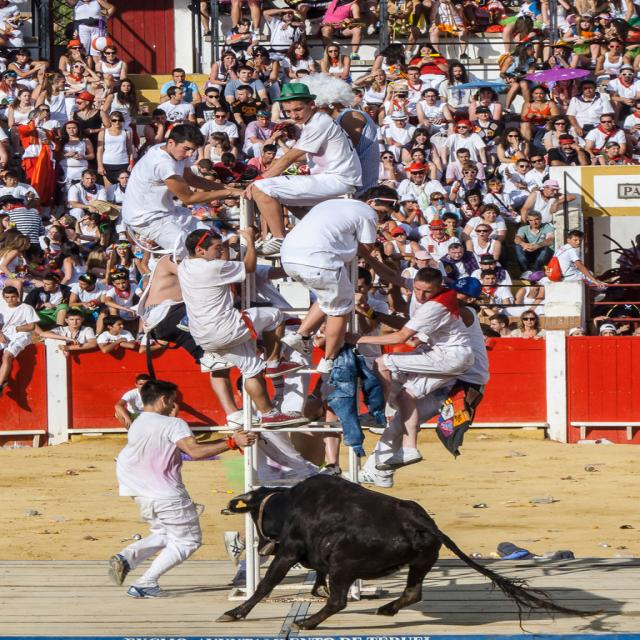Bull: (215, 473, 603, 640)
